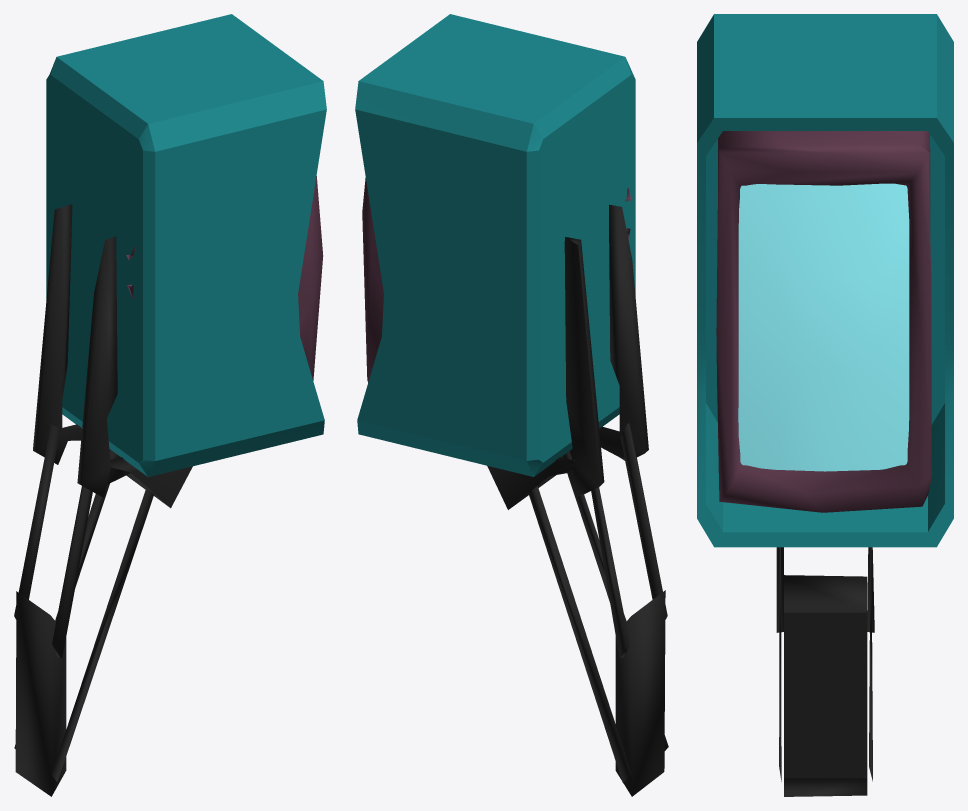
The picture shows the model from 3 angles, left to right: view 1: azimuth 30°, elevation 25°; view 2: azimuth 150°, elevation 25°; view 3: azimuth 270°, elevation 25°; orthographic projection. The views are drawn at different scales.
Visible parts, largest first — view 1: Desirefx_me_CyberProp_TVstand_PaintBlue.009, Desirefx_me_CyberProp_TVstand_PaintBlack.004, Desirefx_me_CyberProp_TVstand_PlasticBlack.005; view 2: Desirefx_me_CyberProp_TVstand_PaintBlue.009, Desirefx_me_CyberProp_TVstand_PaintBlack.004, Desirefx_me_CyberProp_TVstand_PlasticBlack.005; view 3: Desirefx_me_CyberProp_TVstand_PaintBlue.009, Desirefx_me_CyberProp_TVstand_Screens.003, Desirefx_me_CyberProp_TVstand_PlasticBlack.005, Desirefx_me_CyberProp_TVstand_PaintBlack.004.
Part boxes in pixels (x1,y1,x2,y2): Desirefx_me_CyberProp_TVstand_PaintBlue.009: (46, 14, 326, 477); Desirefx_me_CyberProp_TVstand_PaintBlack.004: (14, 204, 192, 796); Desirefx_me_CyberProp_TVstand_PlasticBlack.005: (126, 176, 323, 380); Desirefx_me_CyberProp_TVstand_PaintBlue.009: (355, 14, 635, 476); Desirefx_me_CyberProp_TVstand_PaintBlack.004: (487, 204, 668, 796); Desirefx_me_CyberProp_TVstand_PlasticBlack.005: (362, 178, 631, 382); Desirefx_me_CyberProp_TVstand_PaintBlue.009: (697, 14, 953, 547); Desirefx_me_CyberProp_TVstand_Screens.003: (738, 183, 909, 471); Desirefx_me_CyberProp_TVstand_PlasticBlack.005: (716, 131, 931, 512); Desirefx_me_CyberProp_TVstand_PaintBlack.004: (776, 547, 874, 796).
Bounding box in the file's own units: 0.4247 × 1.11 × 0.3151.
